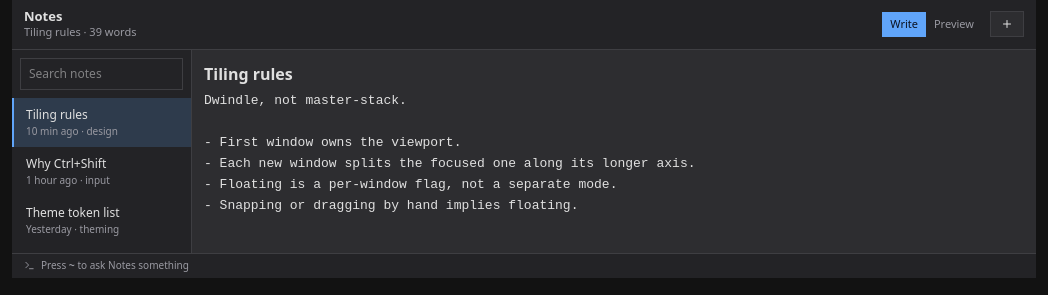
Test: apps respond to being used › Notes filters the list as you search
Check: the text "no matches" is not shown
Type "zzzznotathing" into the field with placeholder "Search notes".
click(102, 74); type("zzzznotathing")  # box [20,58,183,90]
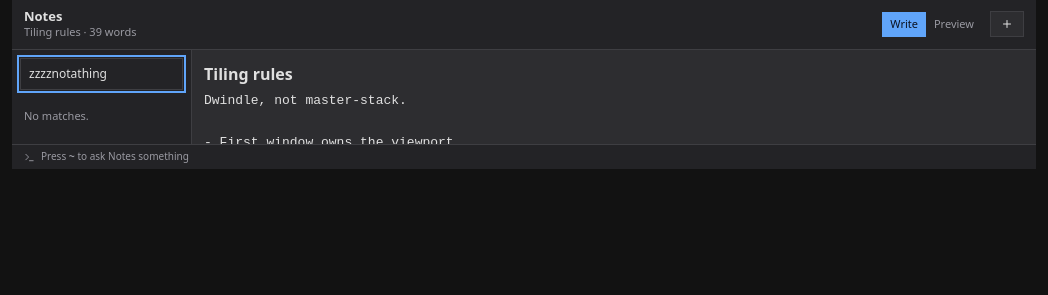
Check: the text "No matches" is shown, box [24,108,89,123]
